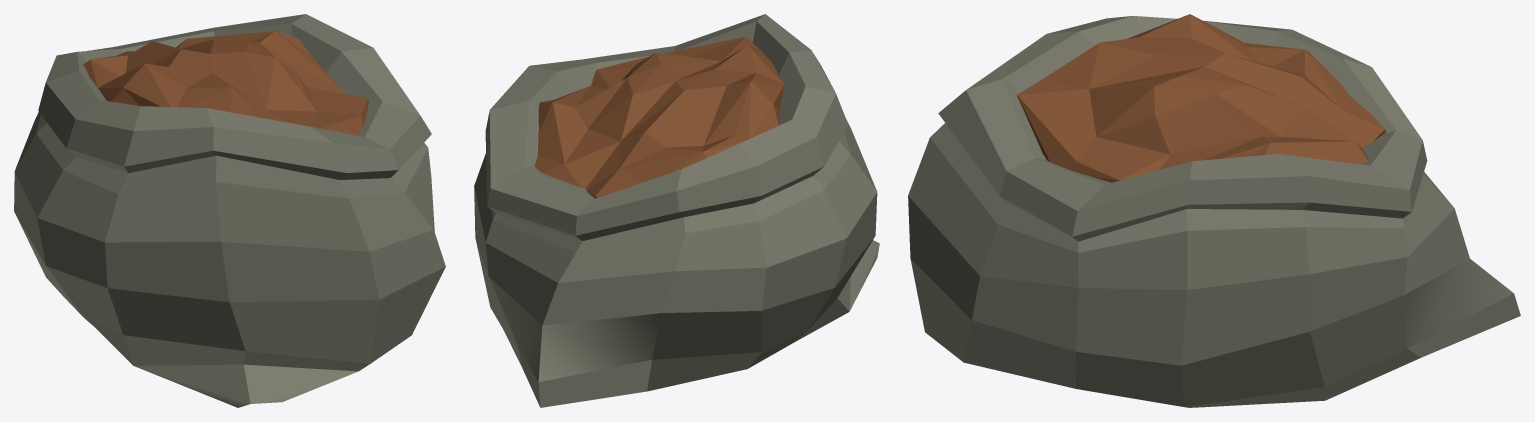
File: SM_Prop_Sack_Large_02.glb
3 views of the same model, side by side, from view 1: azimuth 30°, elevation 25°; view 2: azimuth 150°, elevation 25°; view 3: azimuth 270°, elevation 25° (orthographic). The views are drawn at different scales.
Parts seen in each view (by area): view 1: SM_Prop_Sack_Large_02; view 2: SM_Prop_Sack_Large_02; view 3: SM_Prop_Sack_Large_02.
Part boxes in pixels (x1,y1,x2,y2): SM_Prop_Sack_Large_02: [14, 14, 445, 407]; SM_Prop_Sack_Large_02: [474, 14, 879, 407]; SM_Prop_Sack_Large_02: [908, 14, 1520, 407].
Bounding box in the file's own units: 1.15 × 0.8137 × 1.58.
1 material, 1 textured.
